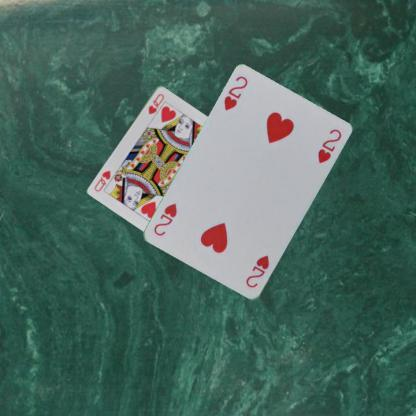2h: (221, 73, 249, 112), (243, 253, 271, 290)
Qh: (146, 90, 165, 116)
